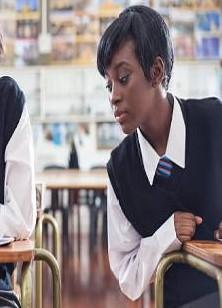cheating: (88, 2, 222, 308)
